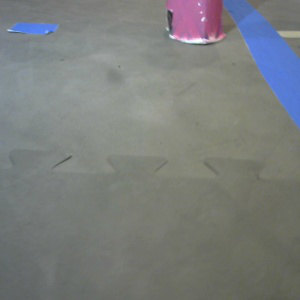right: (165, 1, 228, 46)
